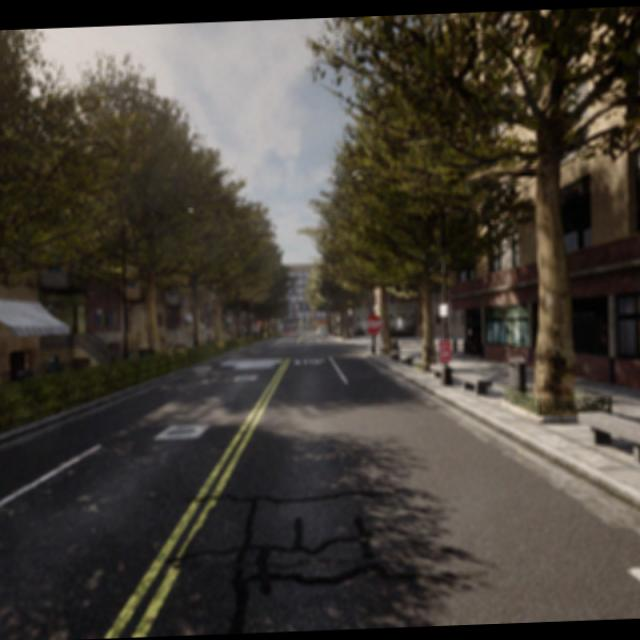stop sign: (364, 310, 382, 336)
